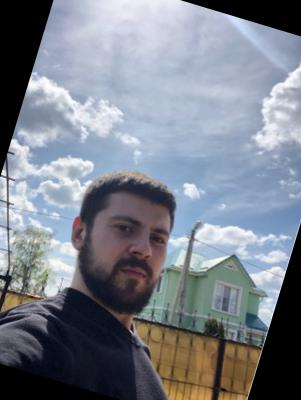without_mask: (79, 202, 178, 323)
